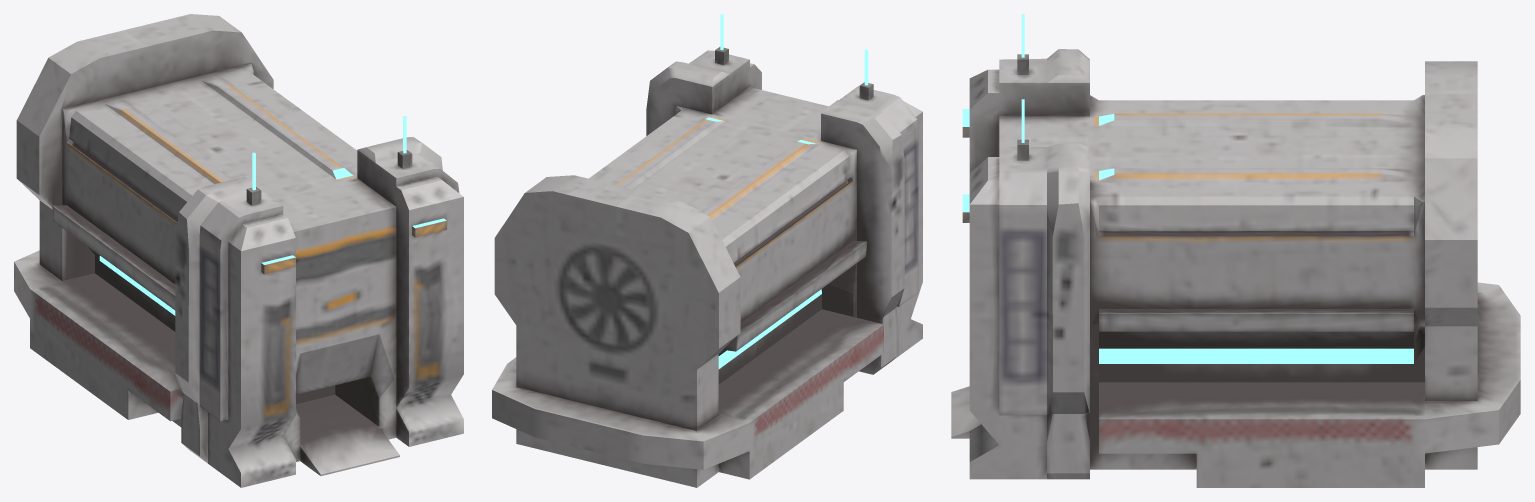
File: Factory_into.fbx
3 renders of one model, left to right at view 1: azimuth 30°, elevation 25°; view 2: azimuth 150°, elevation 25°; view 3: azimuth 270°, elevation 25°, orthographic. The views are drawn at different scales.
Parts seen in each view (by area): view 1: pCube3; view 2: pCube3; view 3: pCube3.
Boxes of the visible parts, x1=… form: pCube3: x1=14, y1=14, x2=463, y2=487; pCube3: x1=492, y1=14, x2=922, y2=487; pCube3: x1=951, y1=14, x2=1520, y2=487.
Size of the model in its own units: 5.55 by 6.41 by 9.22.
